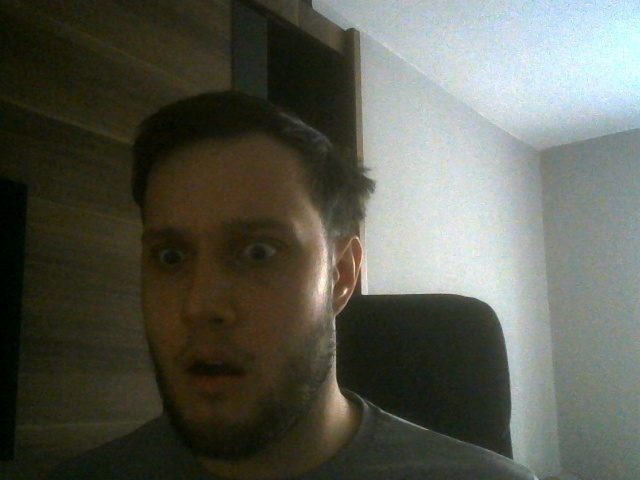surprised: (126, 96, 365, 454)
